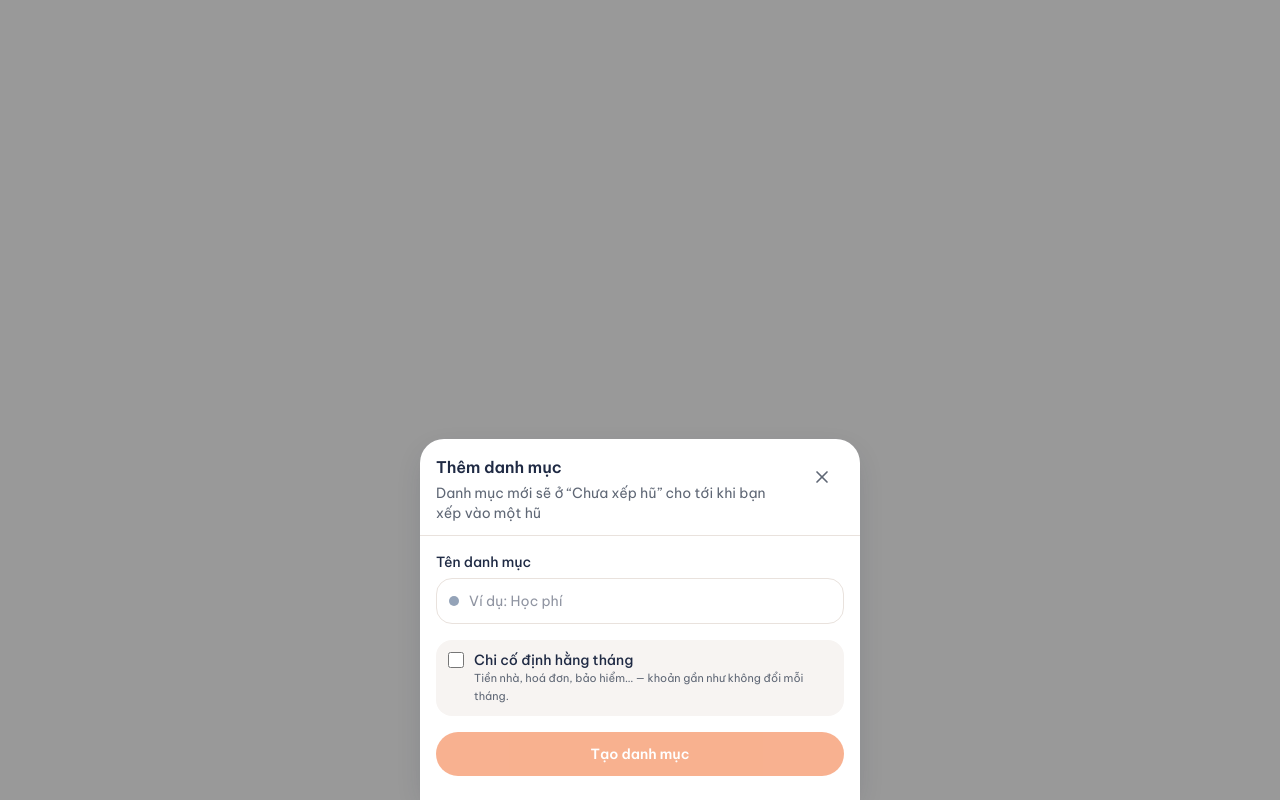
Test: CategoryCreateSheet — the label field › refuses a label that already exists WITHOUT issuing a request
expect the dialog is shown: met, box [420,439,860,799]
Note: Case-folded clash with the preset "Ăn uống" — the same rule the server runs.
Type "ăn uống" into the field named "Tên danh mục" at (650, 601), box [469,579,831,623]
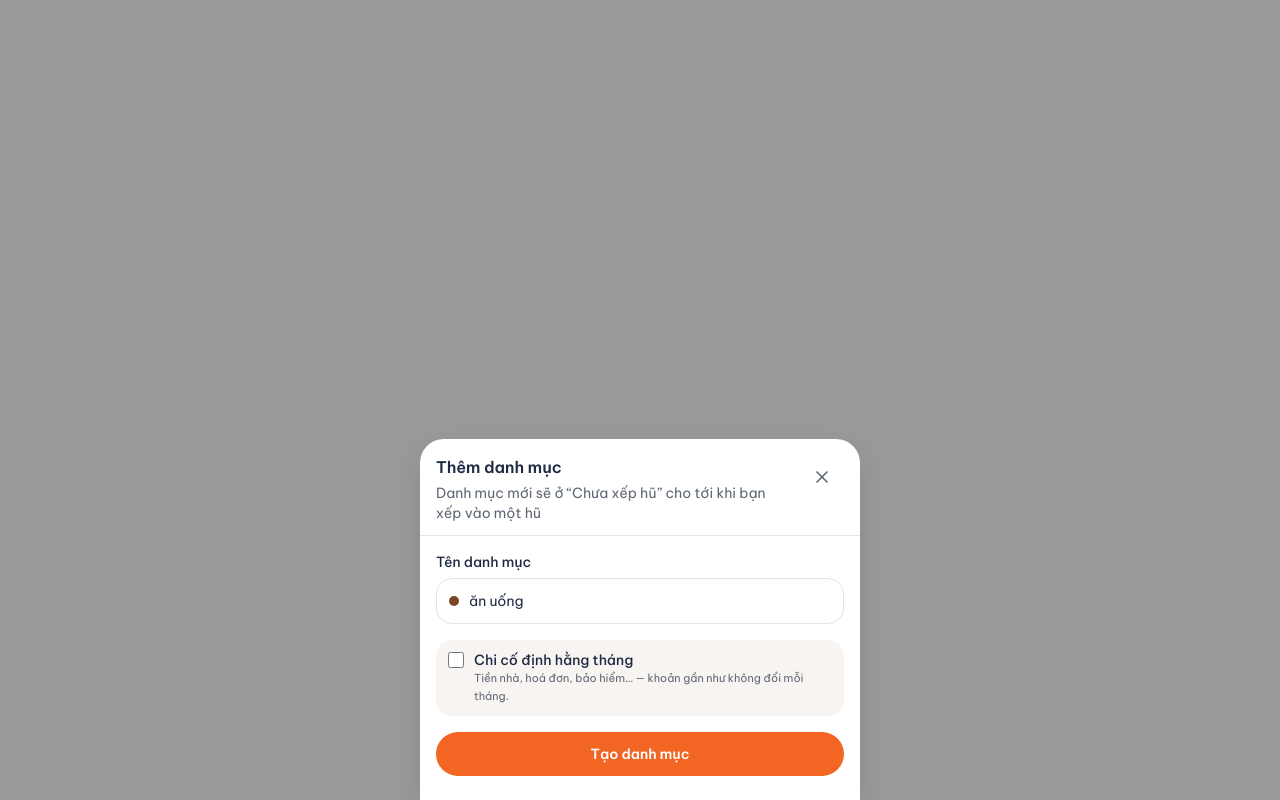
Click the button "Tạo danh mục" at (640, 754), box [436,732,844,776]
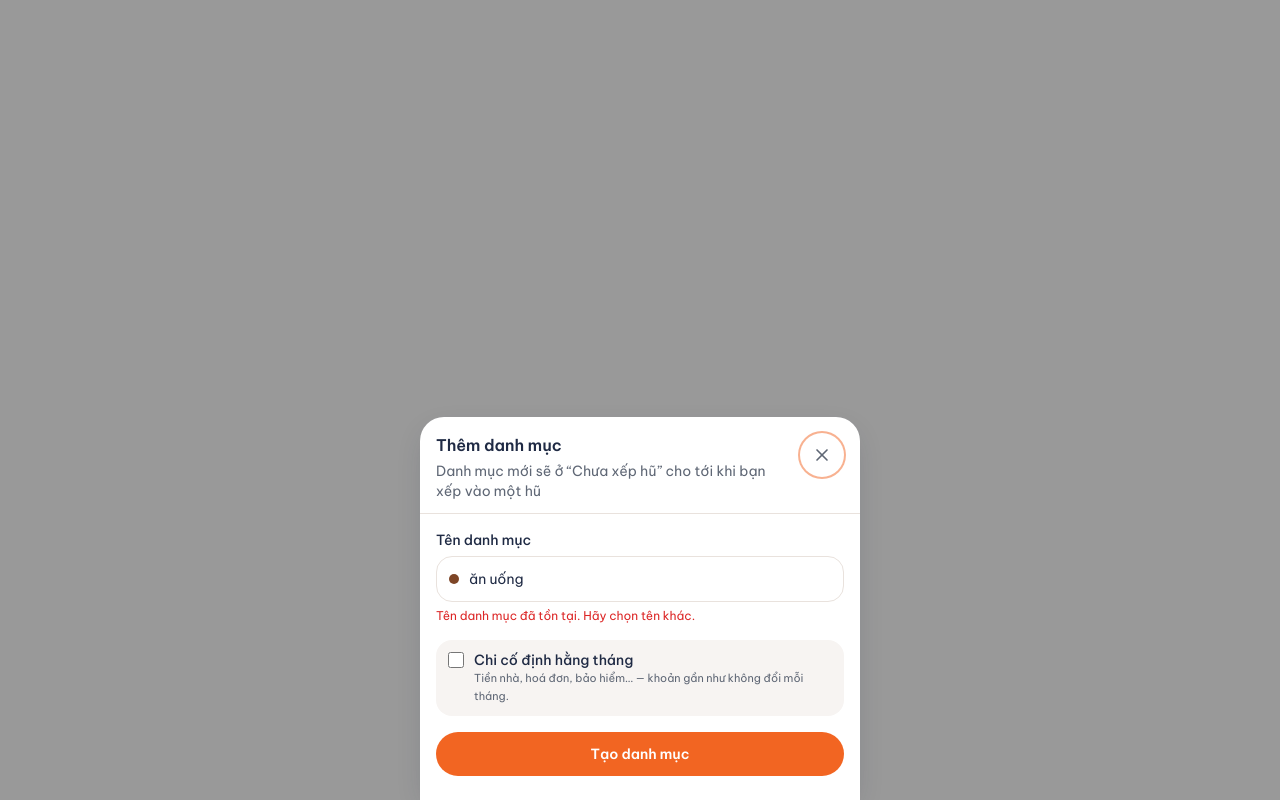
expect the message shows "Tên danh mục đã tồn tại": met, box [436,608,695,623]
